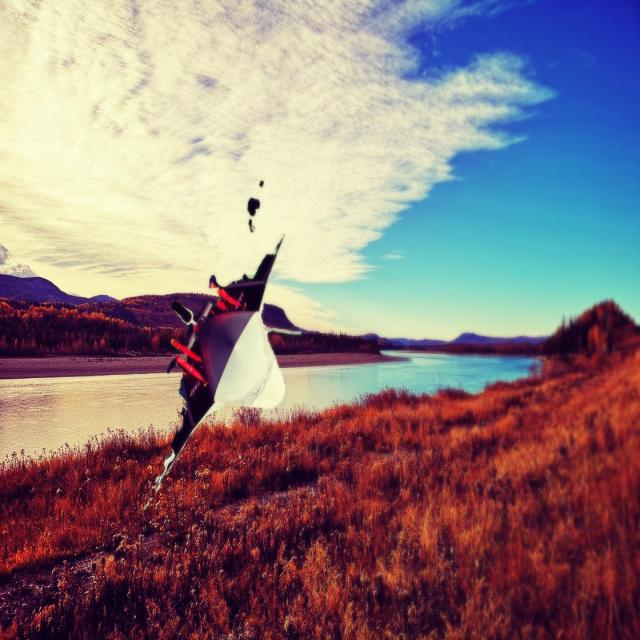airplane: (142, 232, 303, 511)
